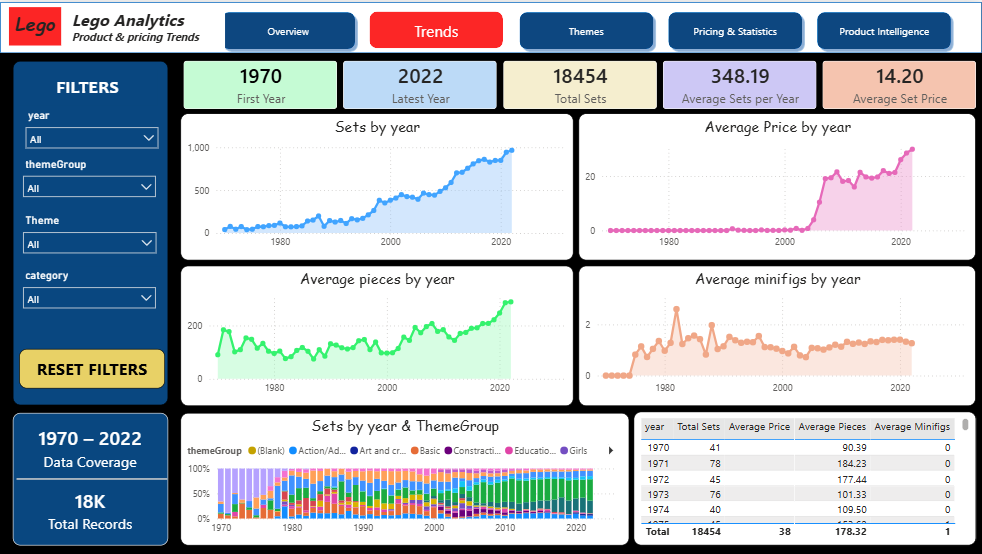

What the dashboard file says about the page in this screenshot:
{"tool":"powerbi","page":{"name":"Trends","canvas":[1280,720],"ordinal":1},"visuals":[{"type":"shape","box":[0,0,1278.3,66.7],"z":0},{"type":"lineChart","title":"Sets by year","fields":{"Category":["lego_sets.year"],"Y":["Count(lego_sets.set_id)"]},"box":[234.2,144.7,511.3,191.3],"z":1000},{"type":"lineChart","title":"Average Price by year","fields":{"Category":["lego_sets.year"],"Y":["Avg(lego_sets.US_retailPrice)"]},"box":[754.1,144.7,517.5,191.3],"z":2000},{"type":"lineChart","title":"Average  pieces by year","fields":{"Category":["lego_sets.year"],"Y":["Avg(lego_sets.pieces)"]},"box":[234.2,343.3,511.3,182.7],"z":3000},{"type":"lineChart","title":"Average  minifigs by year","fields":{"Category":["lego_sets.year"],"Y":["Avg(lego_sets.minifigs)"]},"box":[754.1,343.3,517.5,182.7],"z":4000},{"type":"hundredPercentStackedColumnChart","title":" Sets by year & ThemeGroup","fields":{"Category":["lego_sets.year"],"Y":["Count(lego_sets.set_id)"],"Series":["lego_sets.themeGroup"]},"box":[234.3,534.3,584.3,172.9],"z":5000},{"type":"tableEx","fields":{"Values":["lego_sets.year","lego_sets.Total Sets","lego_sets.Average Price","lego_sets.Average Pieces","lego_sets.Average Minifigs"]},"box":[825.7,532.9,445.7,174.3],"z":6000},{"type":"shape","box":[17.2,77.3,202.3,448.8],"z":7000},{"type":"slicer","fields":{"Values":["lego_sets.year"]},"box":[22.9,134.3,192.9,64.3],"z":8000},{"type":"slicer","fields":{"Values":["lego_sets.category"]},"box":[20,342.9,192.9,65.7],"z":9000},{"type":"slicer","fields":{"Values":["lego_sets.themeGroup"]},"box":[20,198.6,192.9,64.3],"z":10000},{"type":"slicer","fields":{"Values":["lego_sets.theme"]},"box":[19.6,271,193.7,72.3],"z":11000},{"type":"textbox","box":[22.9,88.6,181.4,45.7],"z":12000},{"type":"actionButton","title":"RESET FILTRRS","box":[24.5,451.3,190.1,51.5],"z":13000},{"type":"cardVisual","fields":{"Data":["lego_sets.First Year","lego_sets.Latest Year","lego_sets.Total Sets","lego_sets.Average Sets per Year","lego_sets.Average Set Price"]},"box":[234.2,71.1,1046,73.6],"z":14000},{"type":"cardVisual","fields":{"Data":["lego_sets.Data Coverage","lego_sets.Total Records"]},"box":[17.2,534.6,202.3,172.9],"z":15000},{"type":"shape","box":[22.1,556.7,196.2,128.8],"z":16000},{"type":"pageNavigator","box":[284,8.6,964.7,58.5],"z":17000},{"type":"textbox","box":[11.7,6.7,68.3,50],"z":18000},{"type":"textbox","box":[88.3,3.3,205,60],"z":19000}]}

Visuals, with their boxes in screenshot pixels (x1, y1, x2, y2), scaled from the page's 1280x720 canvas onto the 982x554 screenshot:
shape: bbox(0, 0, 981, 51)
"Sets by year" lineChart: bbox(180, 111, 572, 259)
"Average Price by year" lineChart: bbox(579, 111, 976, 259)
"Average  pieces by year" lineChart: bbox(180, 264, 572, 405)
"Average  minifigs by year" lineChart: bbox(579, 264, 976, 405)
" Sets by year & ThemeGroup" hundredPercentStackedColumnChart: bbox(180, 411, 628, 544)
tableEx - lego_sets.year x lego_sets.Total Sets: bbox(633, 410, 975, 544)
shape: bbox(13, 59, 168, 405)
slicer - lego_sets.year: bbox(18, 103, 166, 153)
slicer - lego_sets.category: bbox(15, 264, 163, 314)
slicer - lego_sets.themeGroup: bbox(15, 153, 163, 202)
slicer - lego_sets.theme: bbox(15, 209, 164, 264)
textbox: bbox(18, 68, 157, 103)
"RESET FILTRRS" actionButton: bbox(19, 347, 165, 387)
cardVisual - lego_sets.First Year x lego_sets.Latest Year: bbox(180, 55, 981, 111)
cardVisual - lego_sets.Data Coverage x lego_sets.Total Records: bbox(13, 411, 168, 544)
shape: bbox(17, 428, 167, 527)
pageNavigator: bbox(218, 7, 958, 52)
textbox: bbox(9, 5, 61, 44)
textbox: bbox(68, 3, 225, 49)
